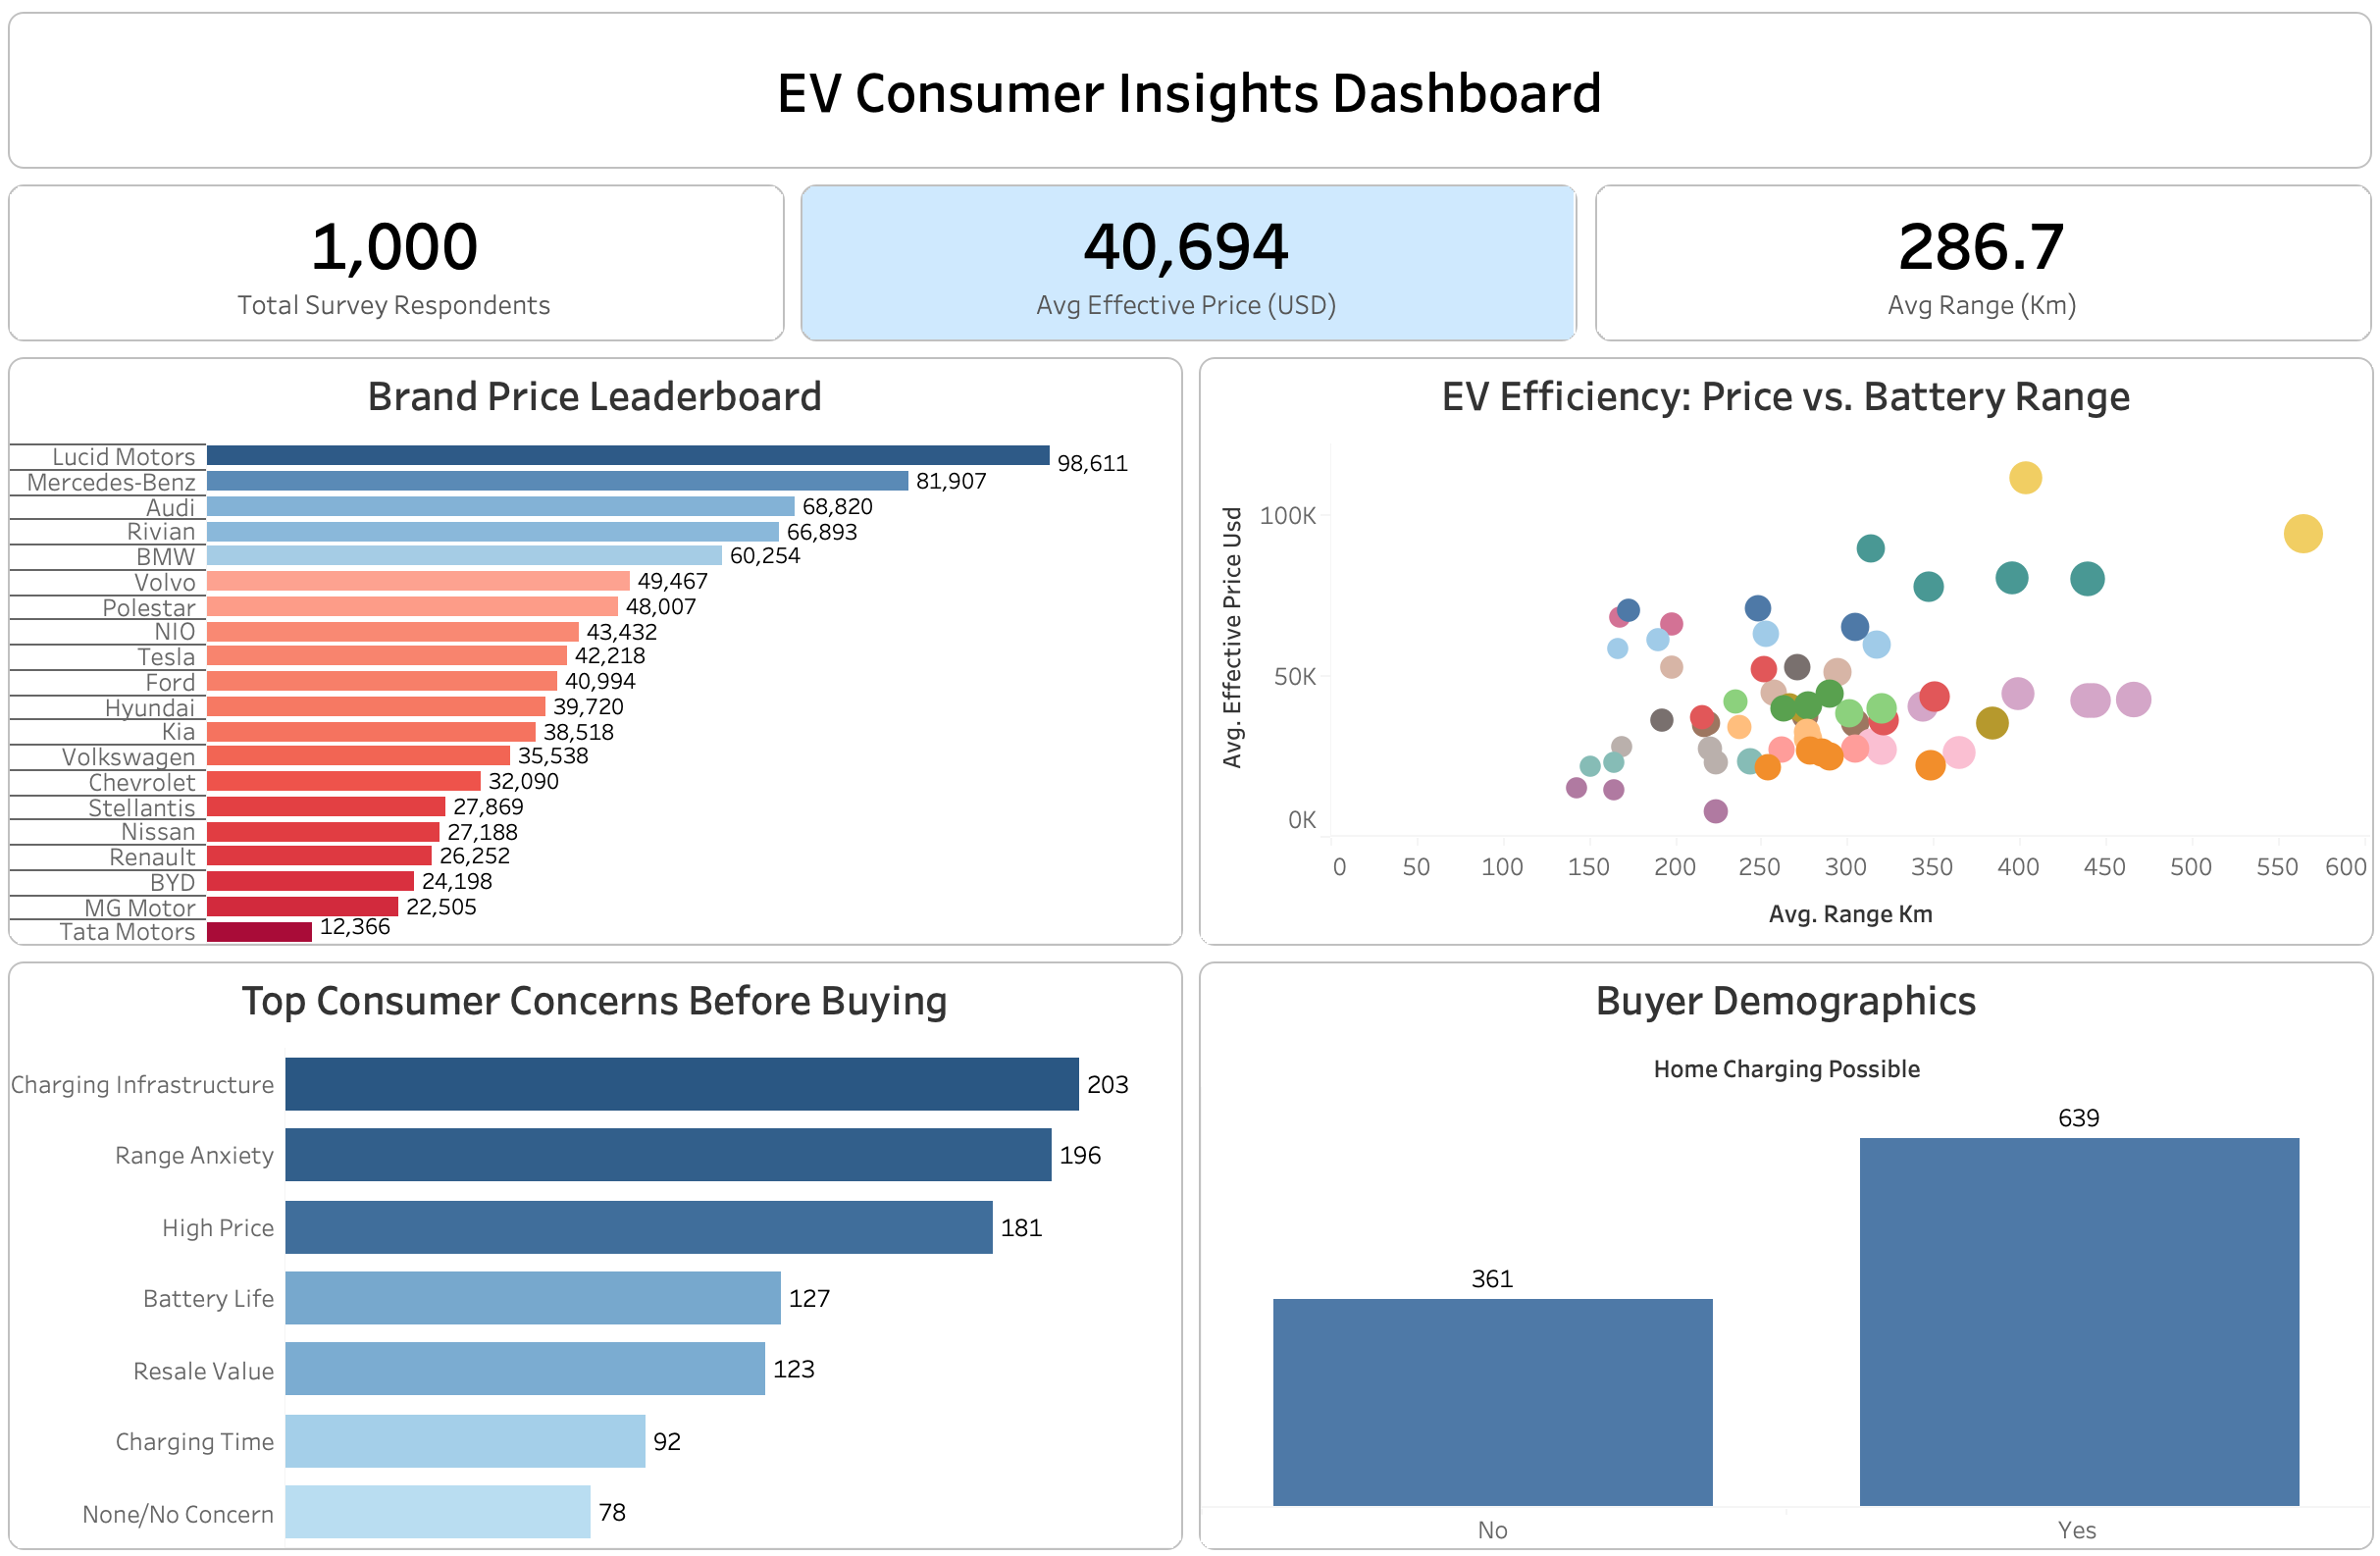

Layout of this report page (visuals, bound fields, positions):
{"tool":"tableau","page":{"name":"Dashboard 1","canvas":[1000,800],"ordinal":0},"visuals":[{"type":"text","box":[8,8,984,87]},{"type":"worksheet","title":"KPI Total Respondents","mark":"Automatic","box":[8,95,328,87]},{"type":"worksheet","title":"KPI Avg Price","mark":"Automatic","box":[336,95,328,87]},{"type":"worksheet","title":"Sheet 7","mark":"Automatic","box":[664,95,328,87]},{"type":"worksheet","title":"BRAND PRICE LEADERBOARD","mark":"Bar","rows":["ev_brand"],"cols":["effective_price_usd"],"box":[8,182,492,305]},{"type":"worksheet","title":"EV EFFICIENCY","mark":"Circle","rows":["effective_price_usd"],"cols":["range_km"],"box":[500,182,492,305]},{"type":"worksheet","title":"CONSUMER CONCERN","mark":"Automatic","rows":["top_concern_before_buying"],"cols":["joined_ev_data.csv_F40F1C3AFCAF444D9C421FCCD628A55A"],"box":[8,487,492,305]},{"type":"worksheet","title":"DEMOGRAPHICS","mark":"Automatic","rows":["joined_ev_data.csv_F40F1C3AFCAF444D9C421FCCD628A55A"],"cols":["Home_Charging_Possible"],"box":[500,487,492,305]}]}

Visuals, with their boxes on the page's 1000x800 design canvas (x1, y1, x2, y2). These are canvas units, not pixel positions in the 2380x1556 screenshot, which may show the page scaled, cropped or inside an application window:
text: (8,8,992,95)
"KPI Total Respondents" worksheet: (8,95,336,182)
"KPI Avg Price" worksheet: (336,95,664,182)
"Sheet 7" worksheet: (664,95,992,182)
"BRAND PRICE LEADERBOARD" worksheet (Bar marks): (8,182,500,487)
"EV EFFICIENCY" worksheet (Circle marks): (500,182,992,487)
"CONSUMER CONCERN" worksheet: (8,487,500,792)
"DEMOGRAPHICS" worksheet: (500,487,992,792)
